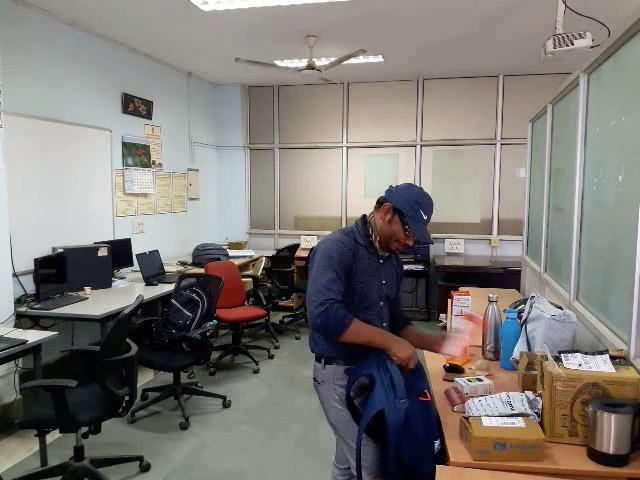shoplifting: (290, 251, 504, 480)
